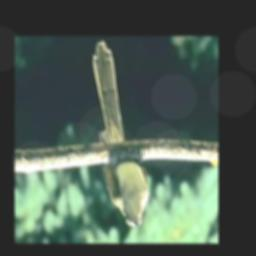Cuckoo: (92, 41, 149, 226)
